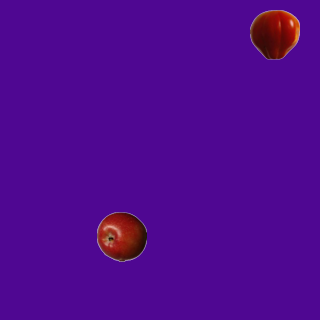Apple Braeburn: (96, 211, 146, 261)
Tomato 1: (249, 9, 299, 59)
